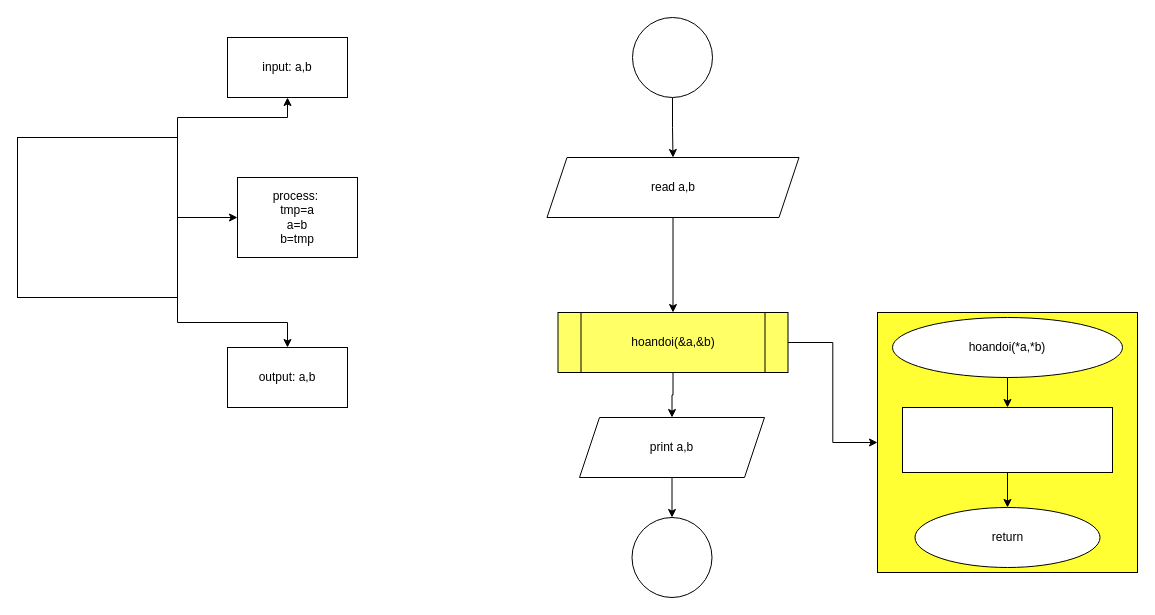
The diagram is 1155 pixels wide and 615 high, and some of its shapes have lost their labels. Here are the shapes that lost their labels. From the top down, the centre of each, then its label:
the point at 672,57: begin
the point at 97,217: Hoán đổi 2 số của 2 biến với nhau
the point at 1007,439: tmp=*a *a=*b *b=tmp
the point at 671,557: end
